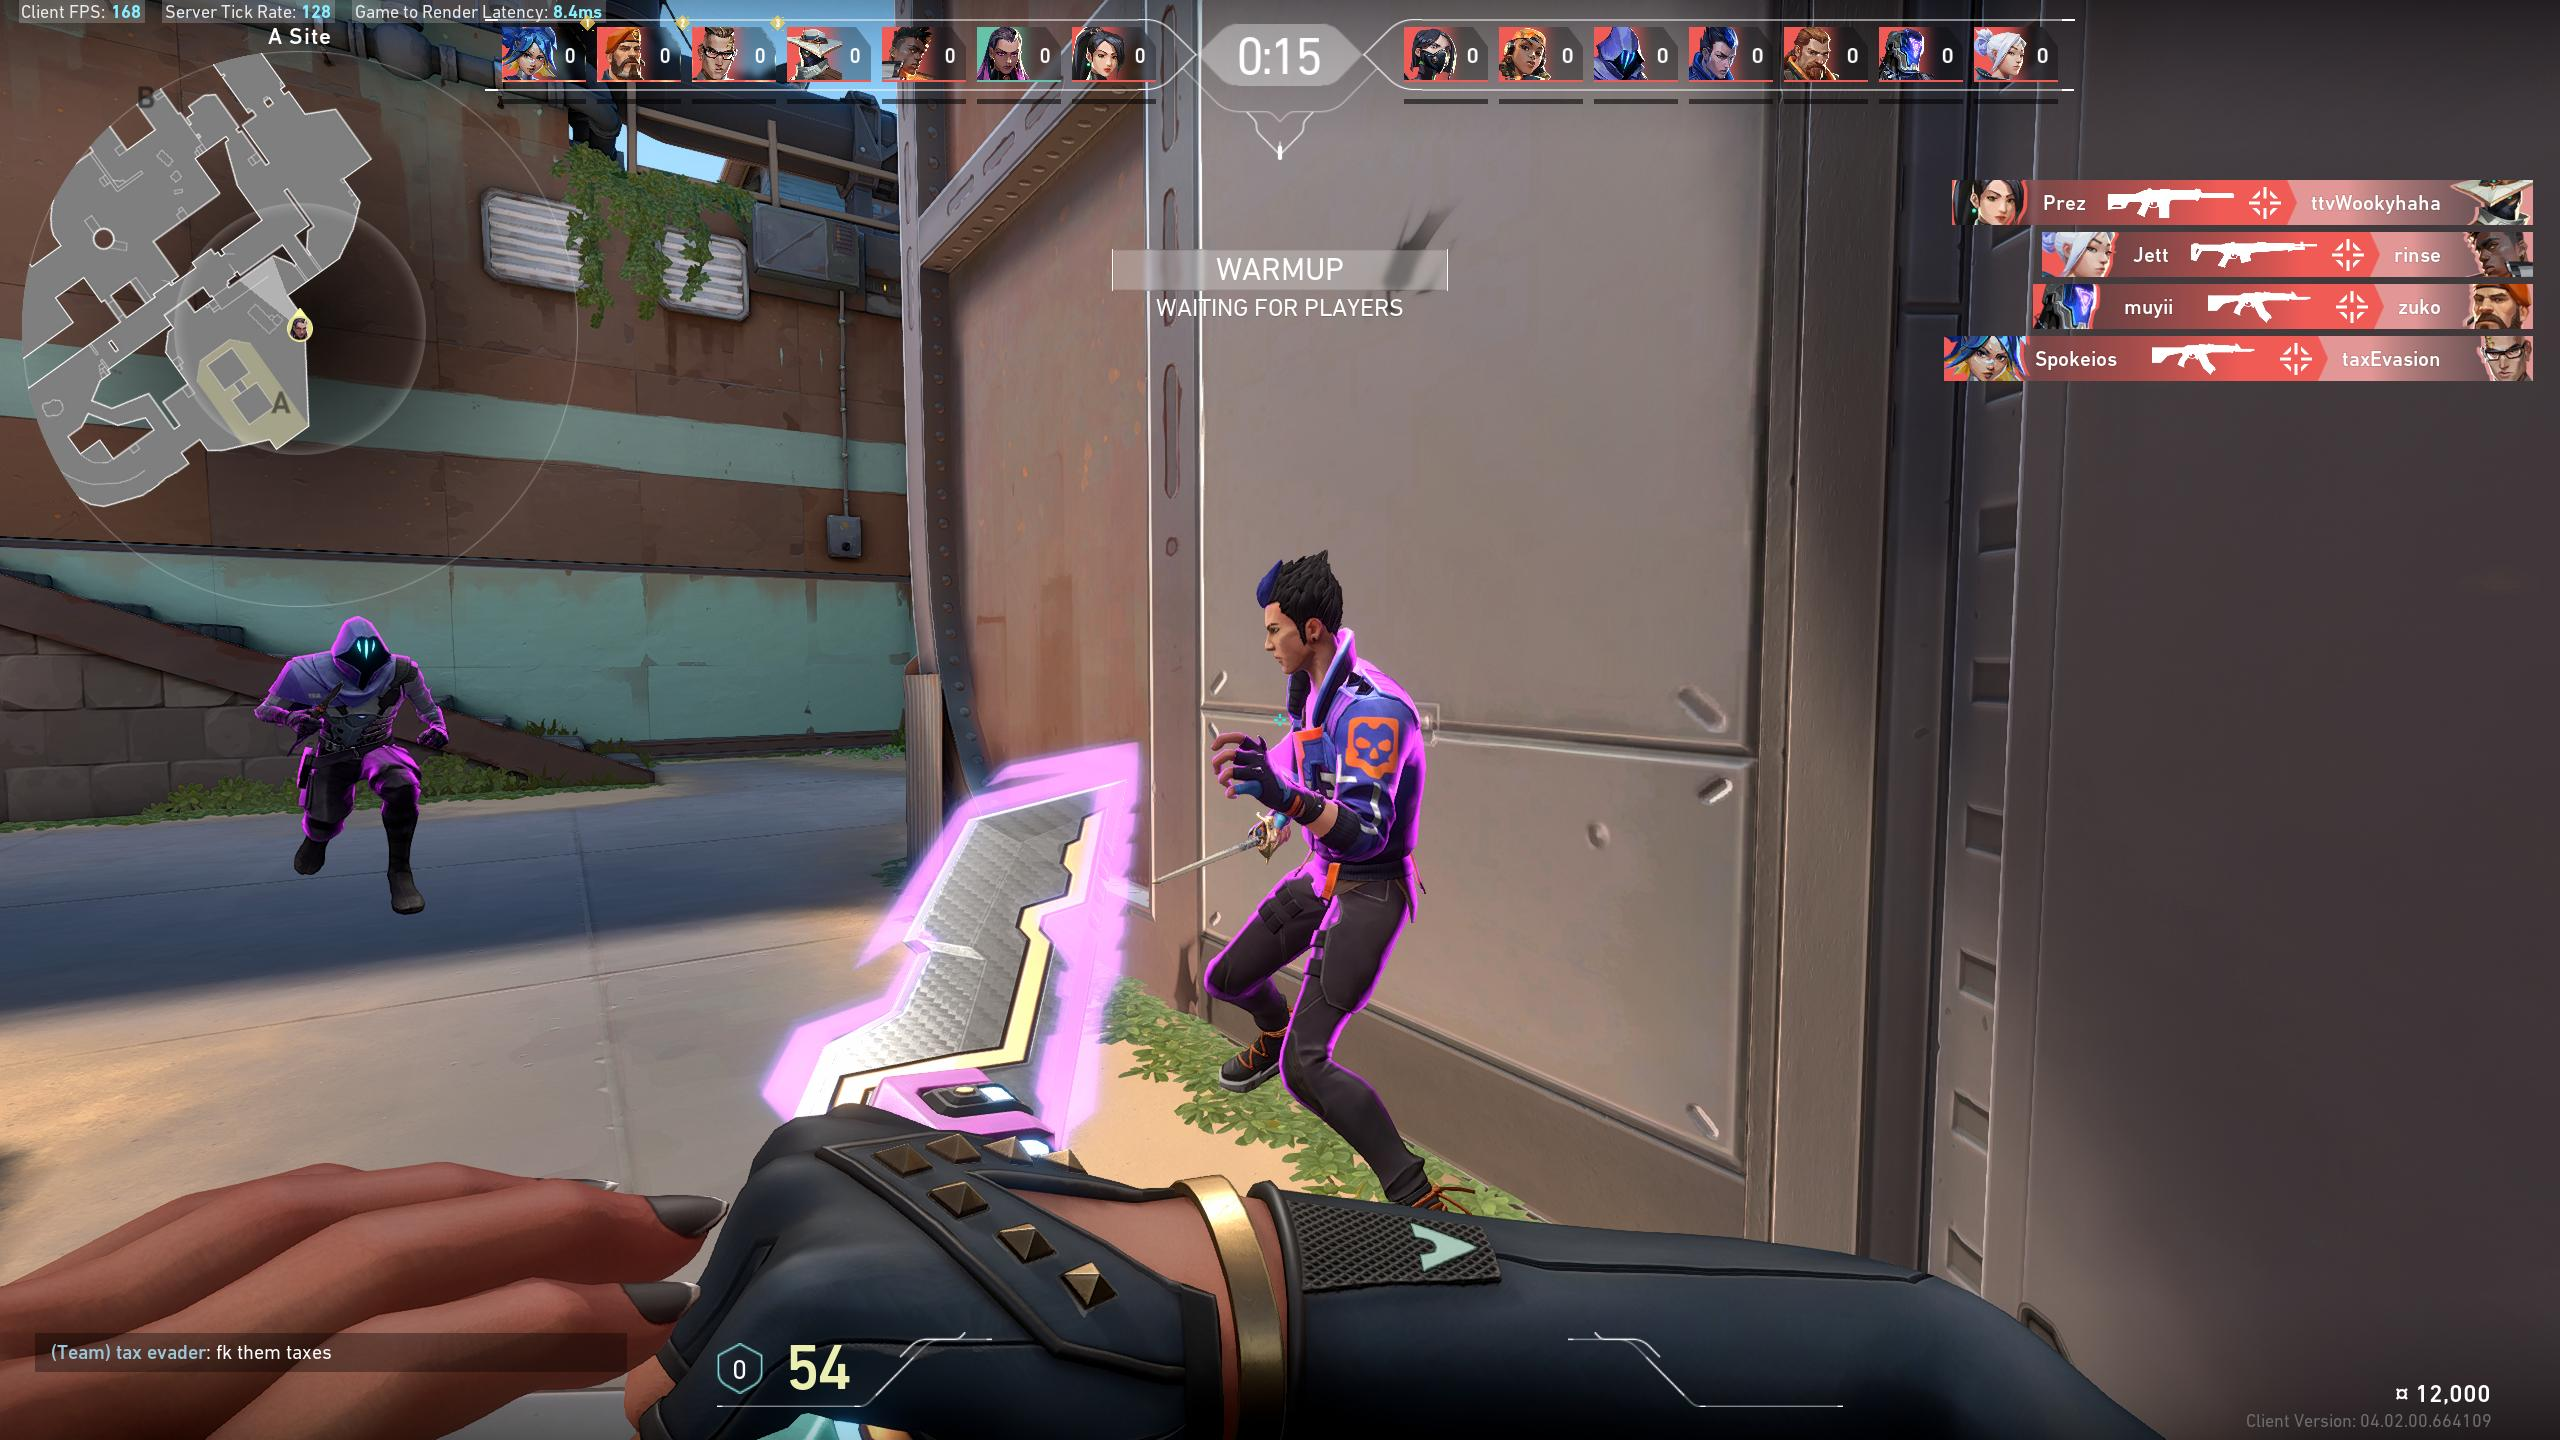enemyBody: (1296, 693, 1407, 840), (325, 682, 378, 758)
enemyHead: (1268, 596, 1326, 651), (345, 631, 376, 672)
